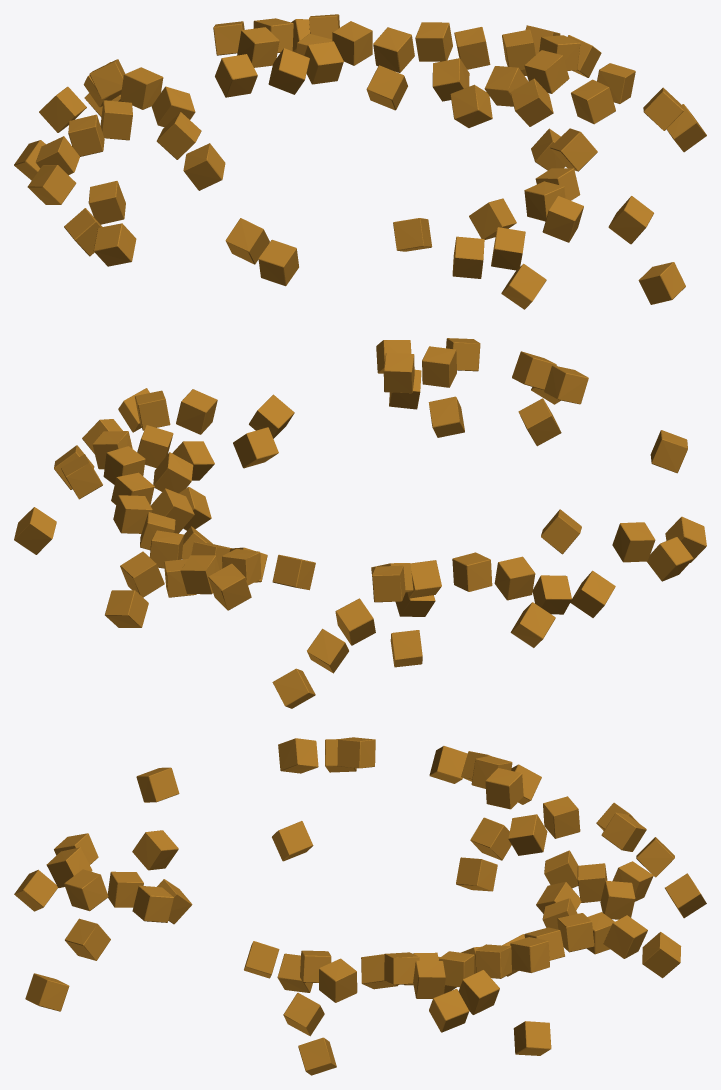
The model's file is caramel.glb.
The picture shows the model from 3 angles, top to bottom: view 1: azimuth 30°, elevation 25°; view 2: azimuth 150°, elevation 25°; view 3: azimuth 270°, elevation 25°; orthographic projection. The views are drawn at different scales.
Visible parts, largest first — view 1: caramel; view 2: caramel; view 3: caramel.
Part boxes in pixels (x1,y1,x2,y2): caramel: (14,14,706,309); caramel: (14,338,706,708); caramel: (14,737,706,1075).
Bounding box in the file's own units: 0.1419 × 0.025 × 0.1435.
